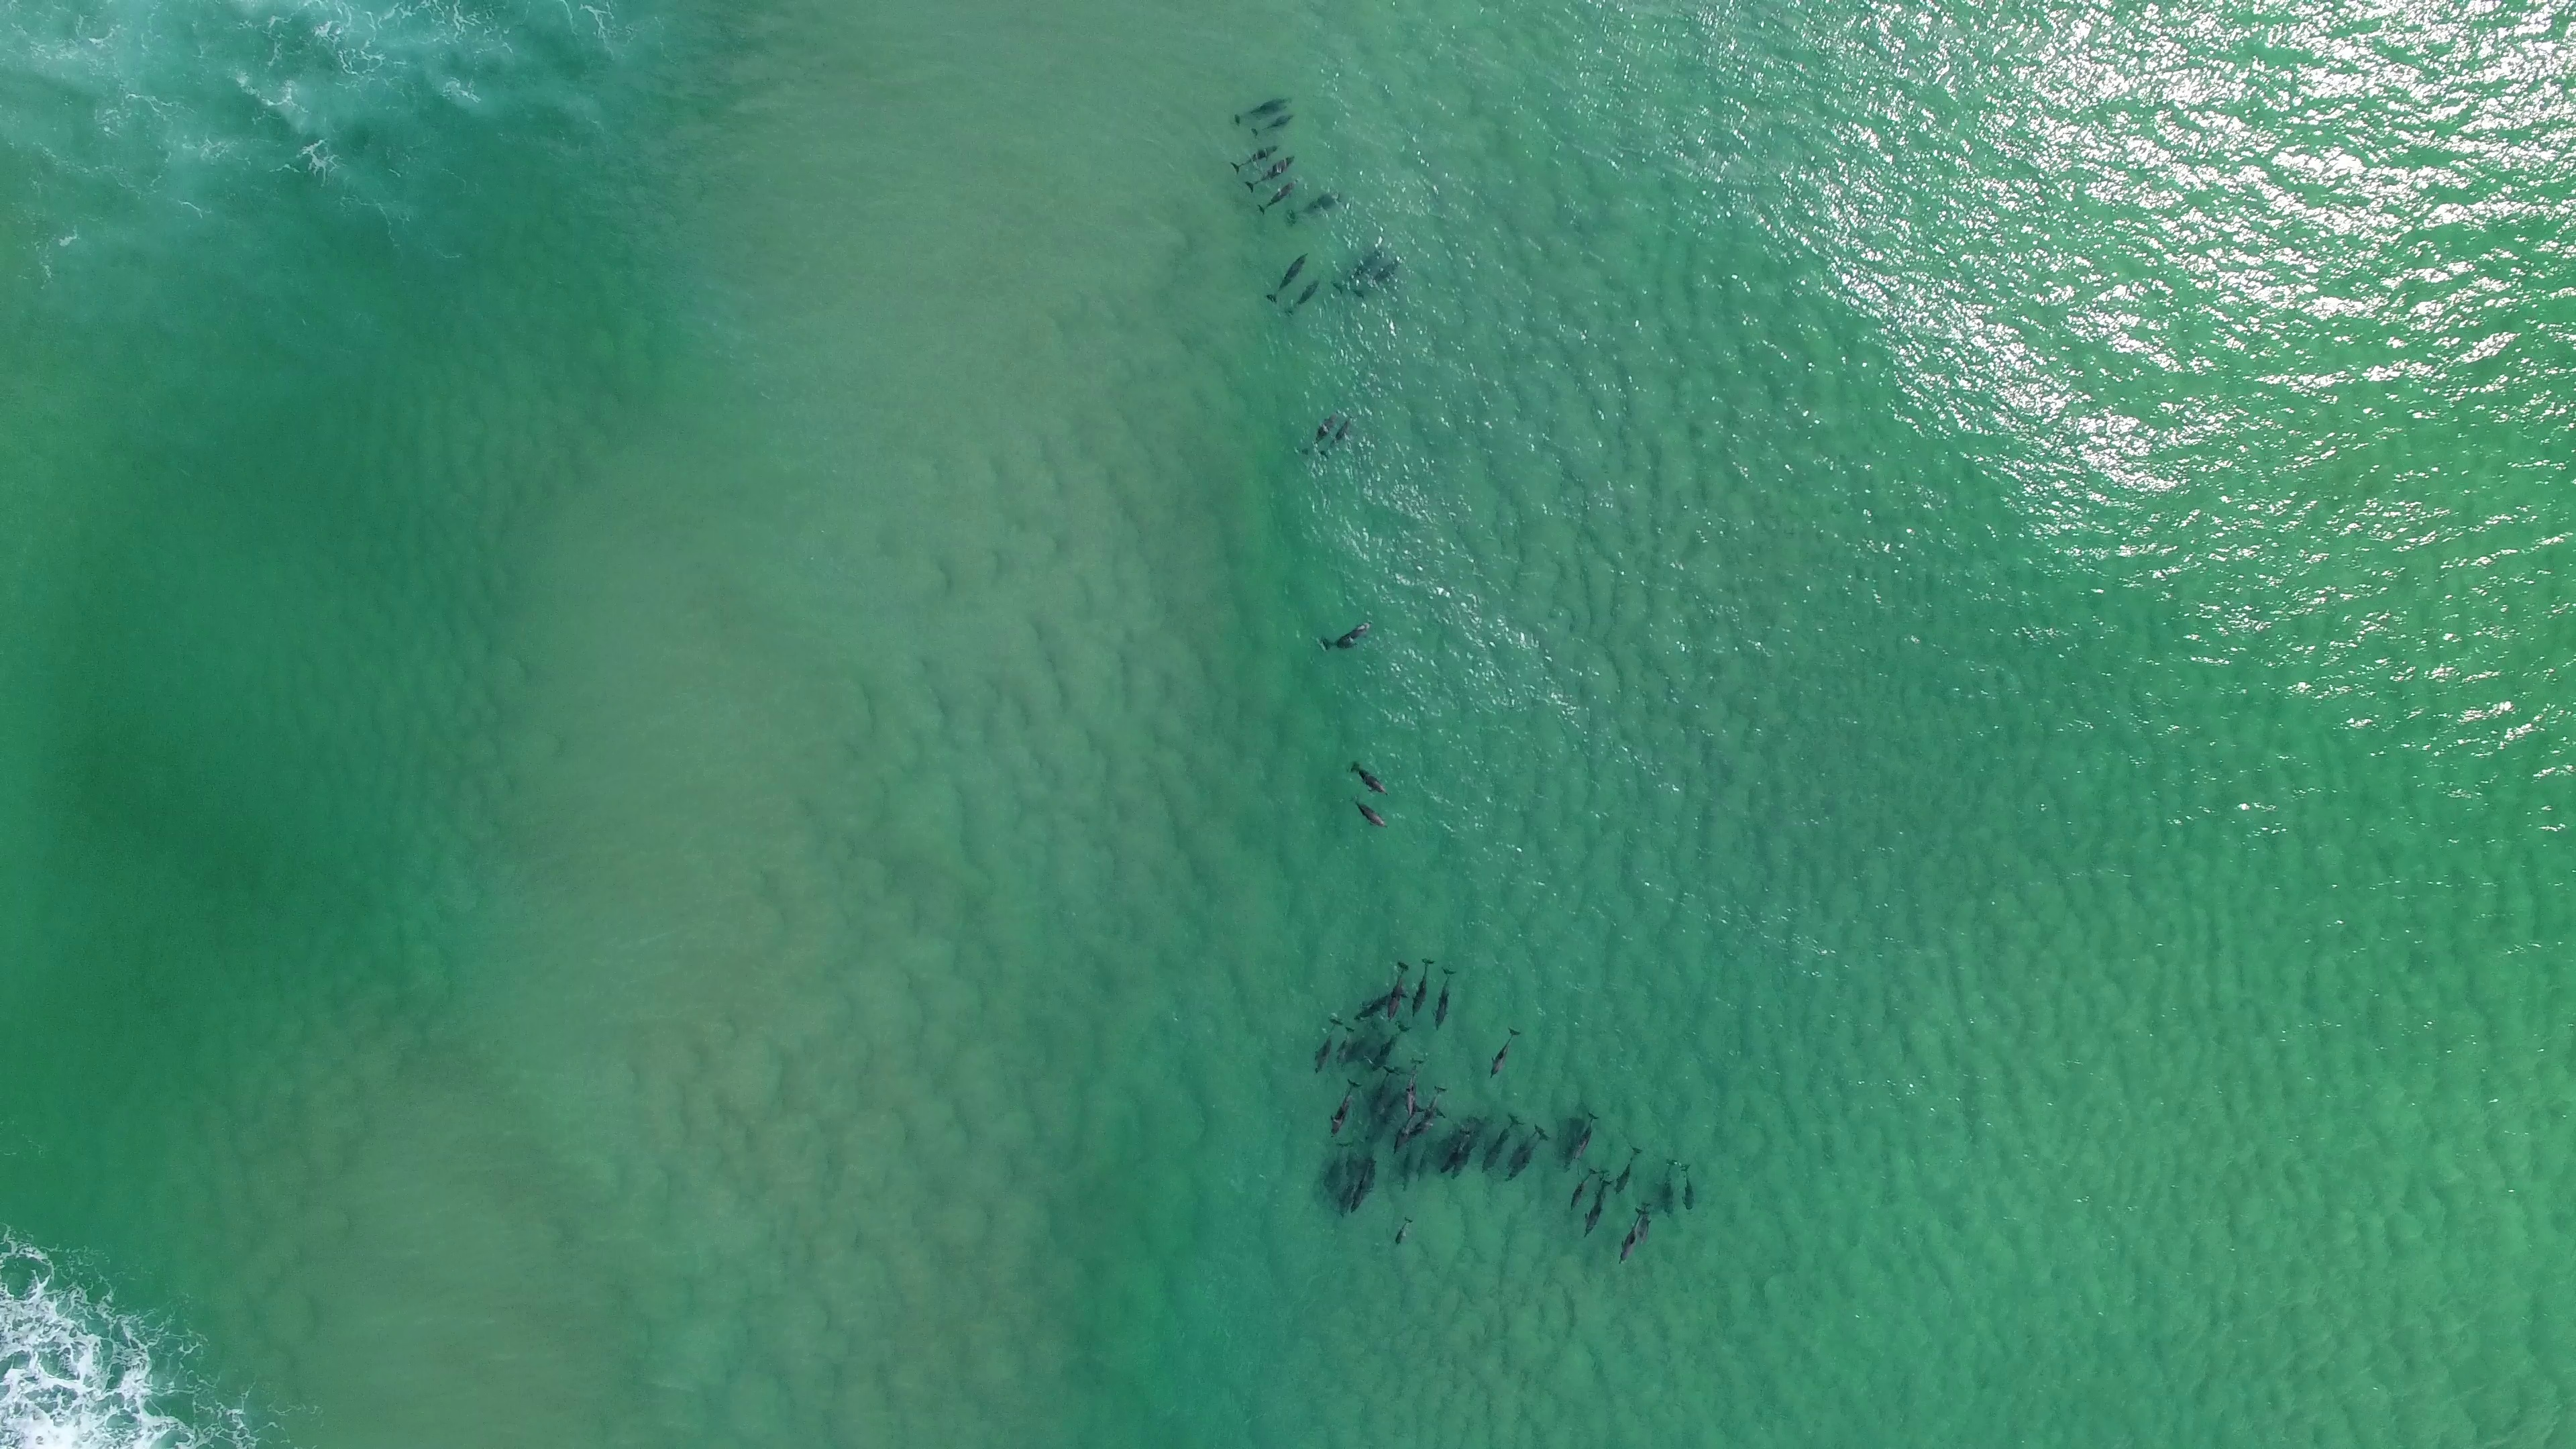dolphin: (1332, 244, 1387, 295), (1265, 249, 1313, 304), (1479, 1113, 1522, 1173), (1352, 982, 1410, 1024), (1353, 255, 1405, 301), (1286, 186, 1345, 225), (1231, 92, 1293, 127), (1578, 1178, 1614, 1240), (1440, 1122, 1477, 1180), (1299, 410, 1343, 458), (1246, 152, 1297, 193), (1507, 1129, 1546, 1182), (1309, 1014, 1343, 1074), (1371, 1023, 1412, 1072), (1329, 1077, 1361, 1139), (1318, 619, 1375, 653), (1417, 1083, 1451, 1138), (1504, 1123, 1543, 1169), (1488, 1026, 1522, 1079), (1389, 1104, 1426, 1152), (1346, 1157, 1376, 1215), (1569, 1109, 1599, 1168), (1323, 1139, 1353, 1196), (1619, 1208, 1647, 1269), (1283, 276, 1322, 318), (1410, 955, 1437, 1017), (1230, 142, 1283, 172), (1368, 1065, 1398, 1118), (1258, 177, 1300, 214), (1320, 414, 1355, 458), (1433, 966, 1456, 1033), (1387, 957, 1412, 1019), (1566, 1168, 1601, 1210), (1350, 761, 1391, 796), (1615, 1146, 1644, 1196), (1405, 1054, 1426, 1116), (1350, 796, 1389, 830), (1251, 111, 1295, 138), (1660, 1157, 1677, 1221), (1336, 1021, 1357, 1067), (1681, 1161, 1693, 1215), (1638, 1201, 1652, 1246), (1394, 1215, 1414, 1246)
